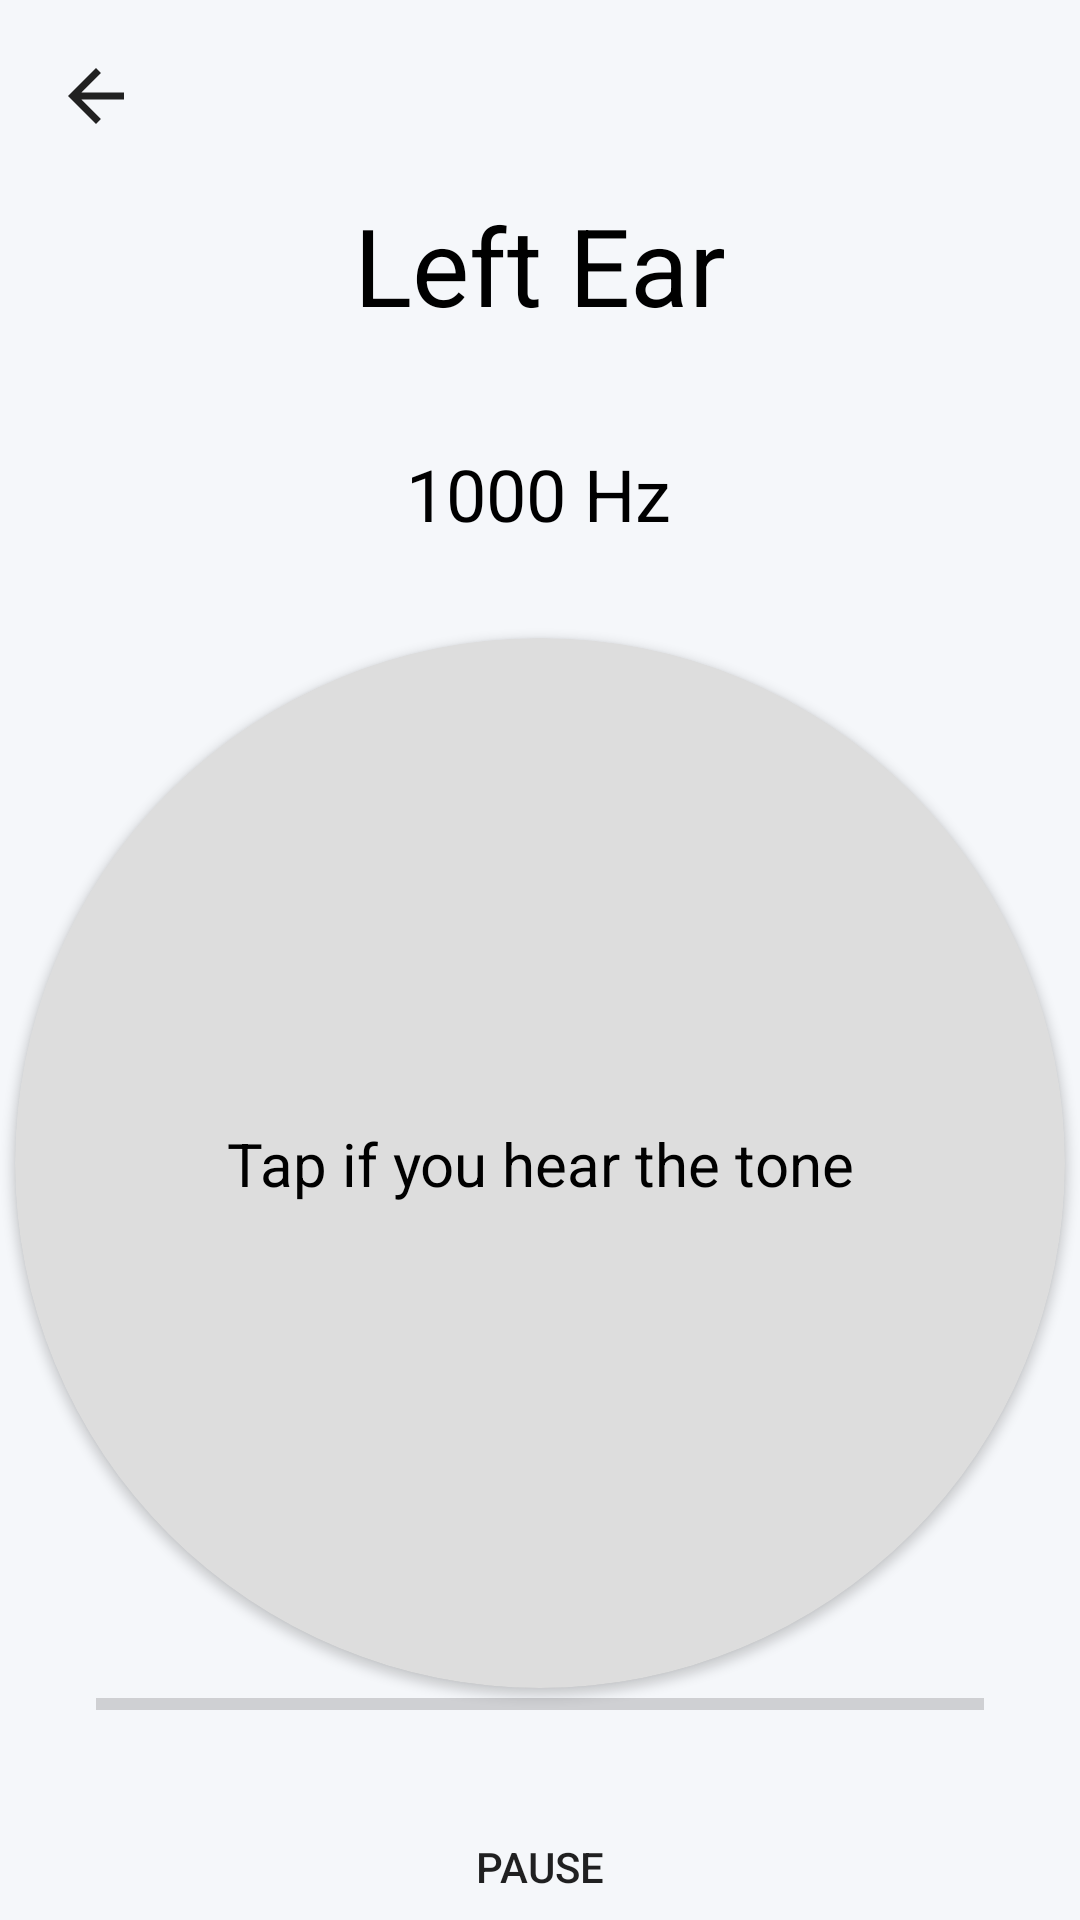

Named icons in this screenshot (1080 × 1920) and their centers, (x,y):
結束並返回: (96,96)
